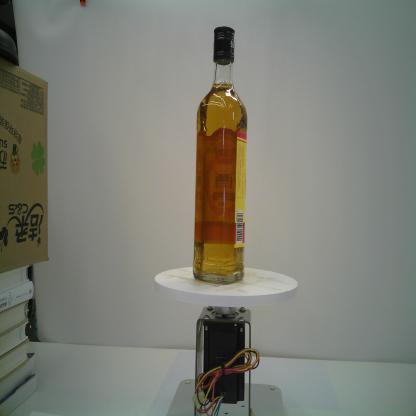Seasoner: (192, 25, 248, 286)
